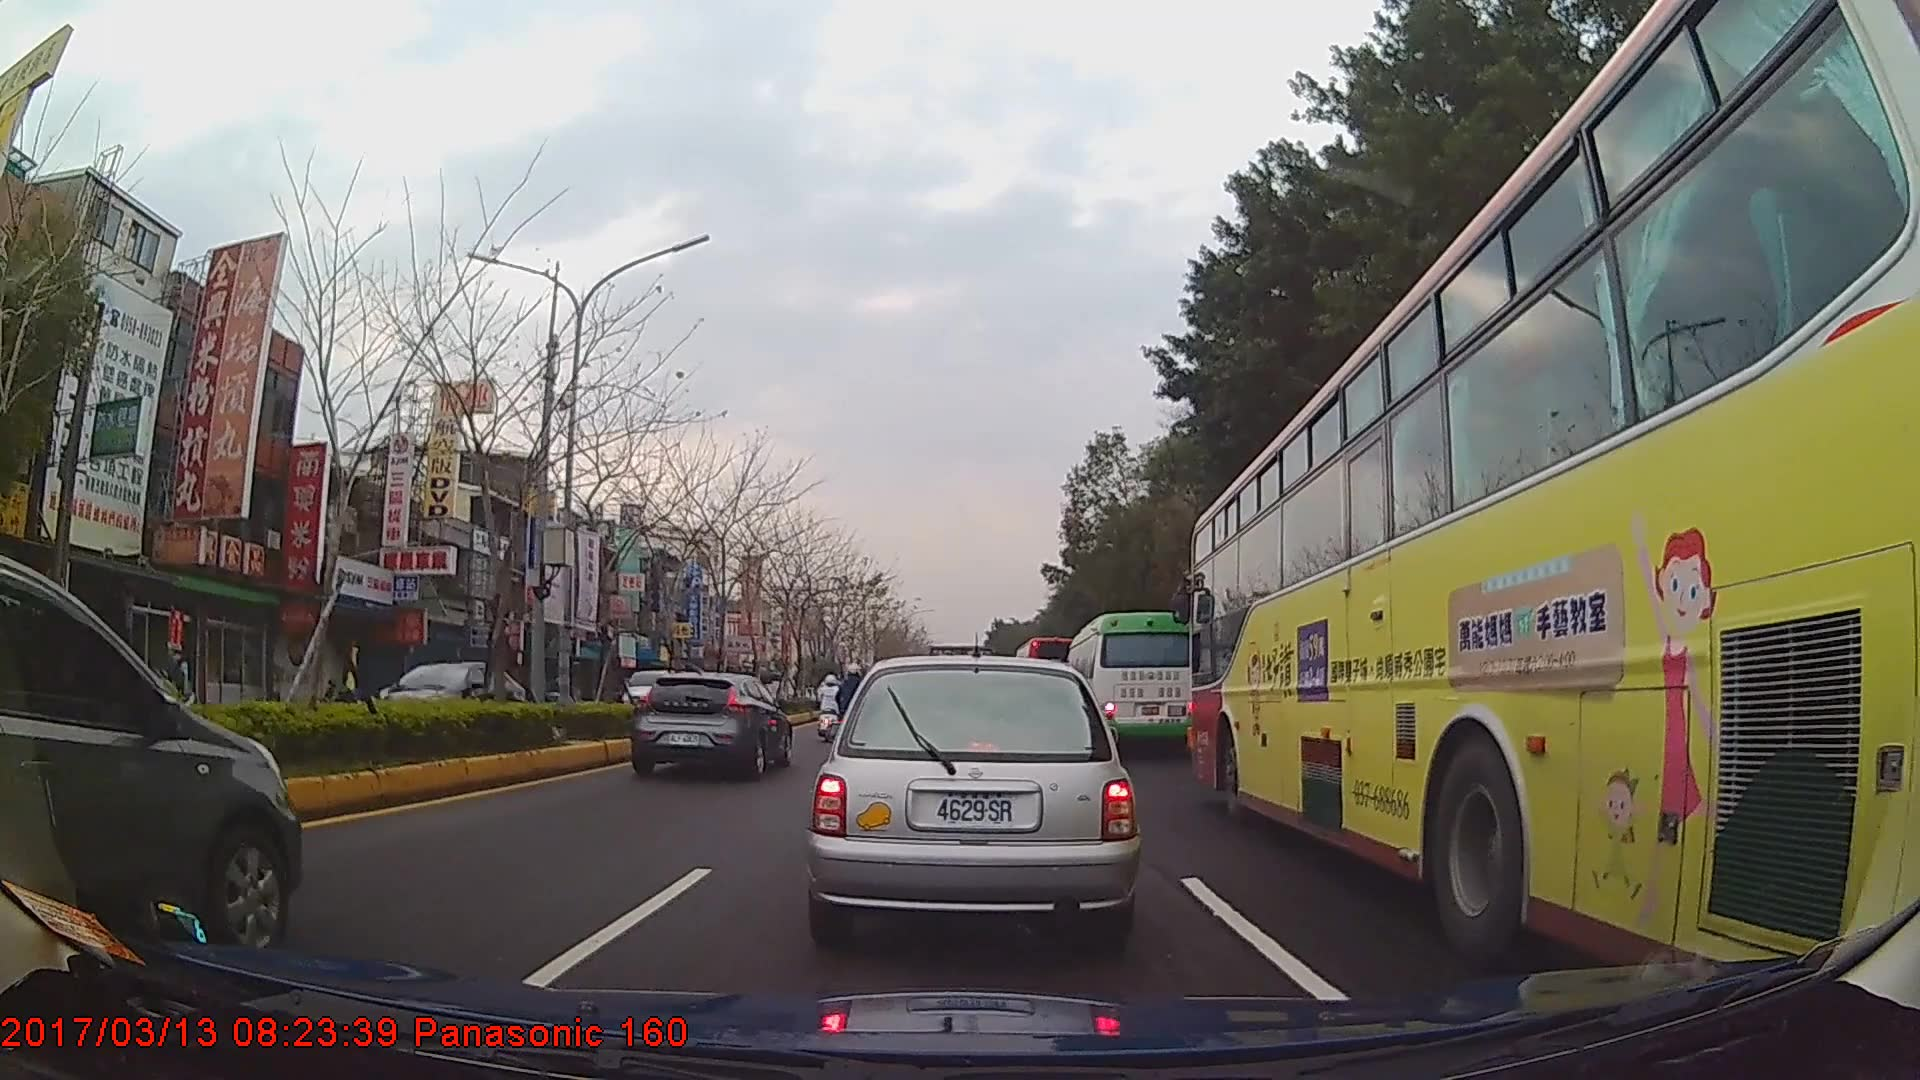rider: (835, 663, 869, 743), (815, 676, 847, 749), (159, 655, 187, 705)
vehicle: (1186, 0, 1920, 990), (0, 549, 297, 953), (810, 650, 1142, 956), (1063, 610, 1197, 753), (627, 670, 794, 779), (364, 653, 518, 735)
